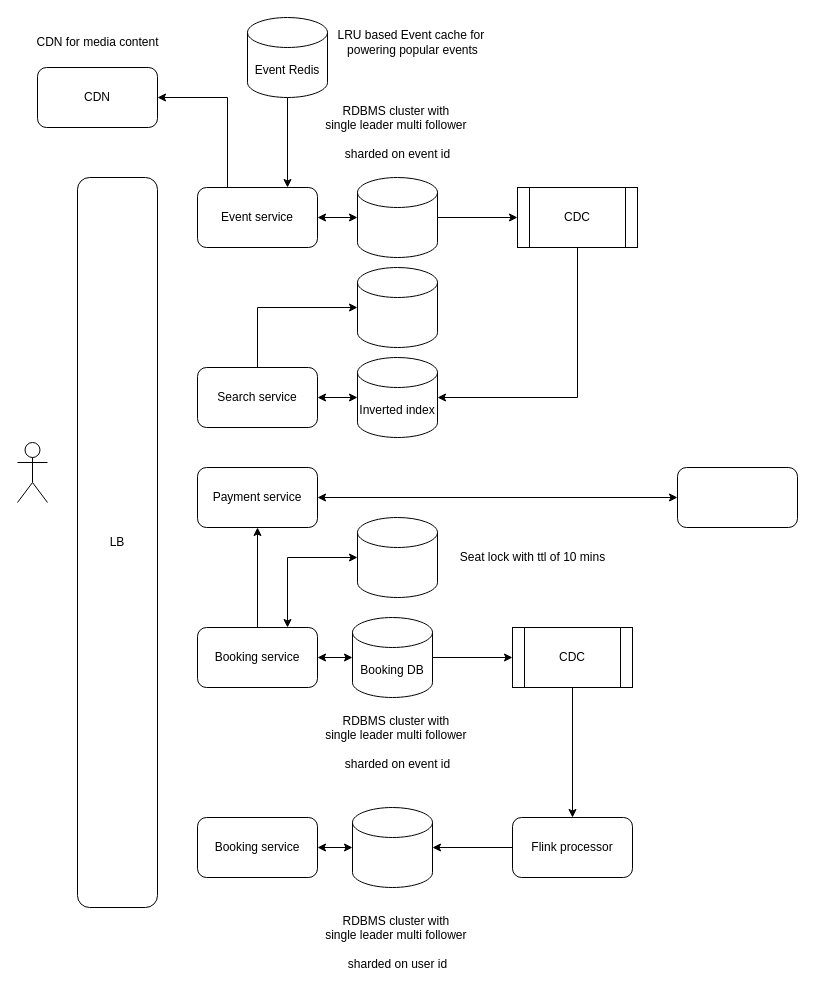
Some shapes in this 815 by 995 pixel diagram are drawn without their labels. Here are the shapes that lost their labels. From the top down, the centre of each, then its label:
At [397,217]: "Event DB".
At [397,307]: "Search cache".
At [32,472]: "Actor".
At [737,497]: "Payment Provider".
At [397,557]: "Redis seat lock".
At [392,847]: "Tickets DB".
